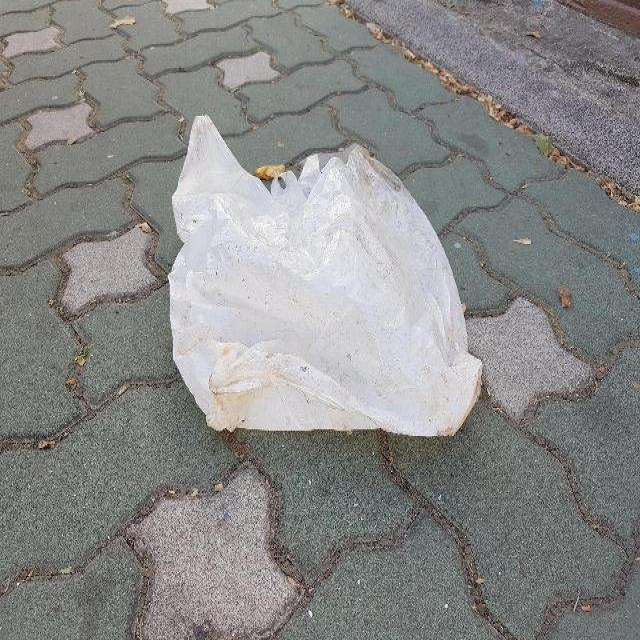plastic bag: (168, 107, 487, 437)
